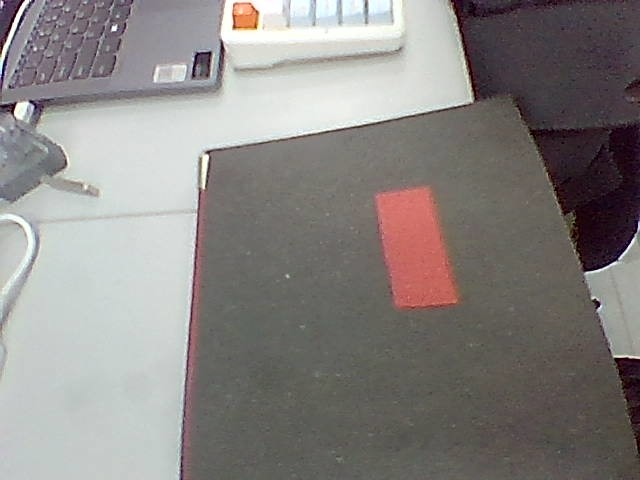card: (376, 187, 458, 307)
